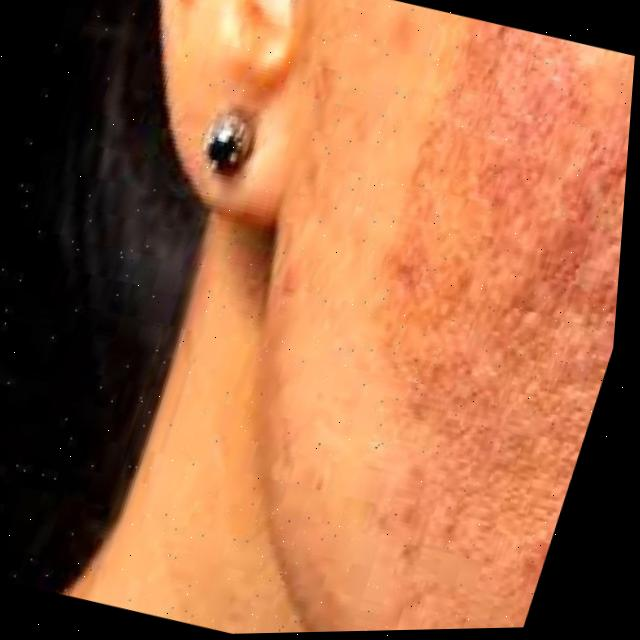Melasma: (332, 28, 637, 457)
